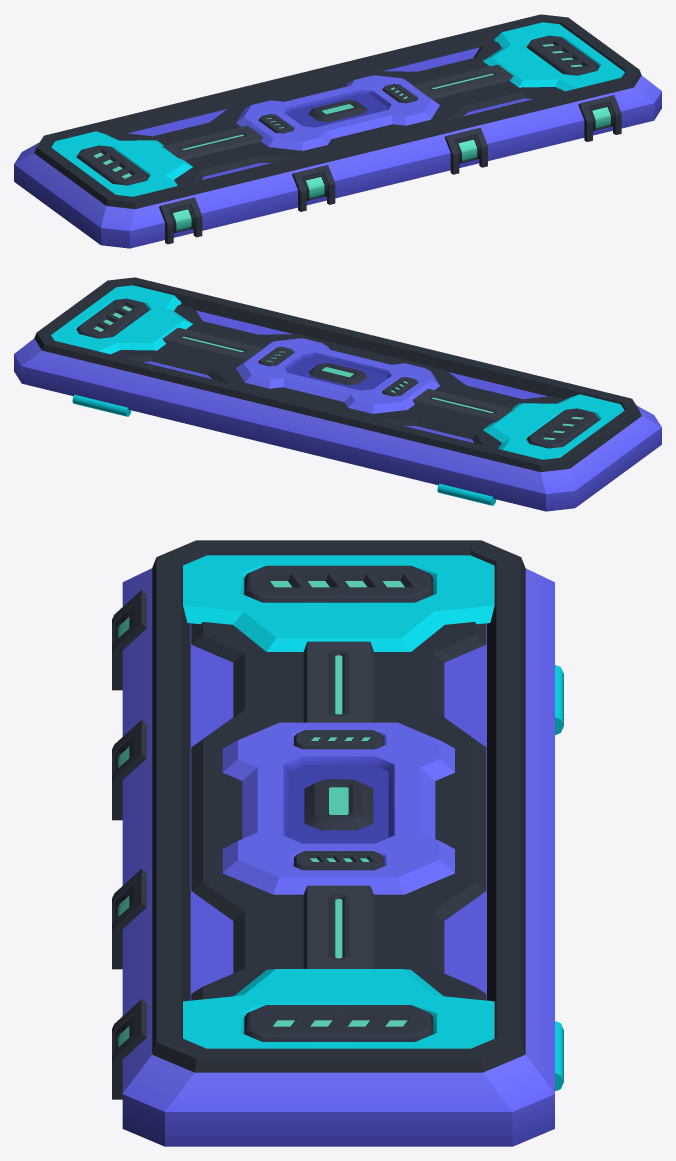
Rendered from Container_08_Cap.fbx.
3 renders of one model, top to bottom at view 1: azimuth 30°, elevation 25°; view 2: azimuth 150°, elevation 25°; view 3: azimuth 270°, elevation 25°, orthographic. The views are drawn at different scales.
Visible parts, largest first — view 1: Container_08_Cap; view 2: Container_08_Cap; view 3: Container_08_Cap.
Boxes of the visible parts, x1,y1,x2,y2 form: Container_08_Cap: (14,14,661,248); Container_08_Cap: (14,277,661,511); Container_08_Cap: (112,540,563,1146).
Bounding box in the file's own units: 131 × 10.05 × 45.82.
